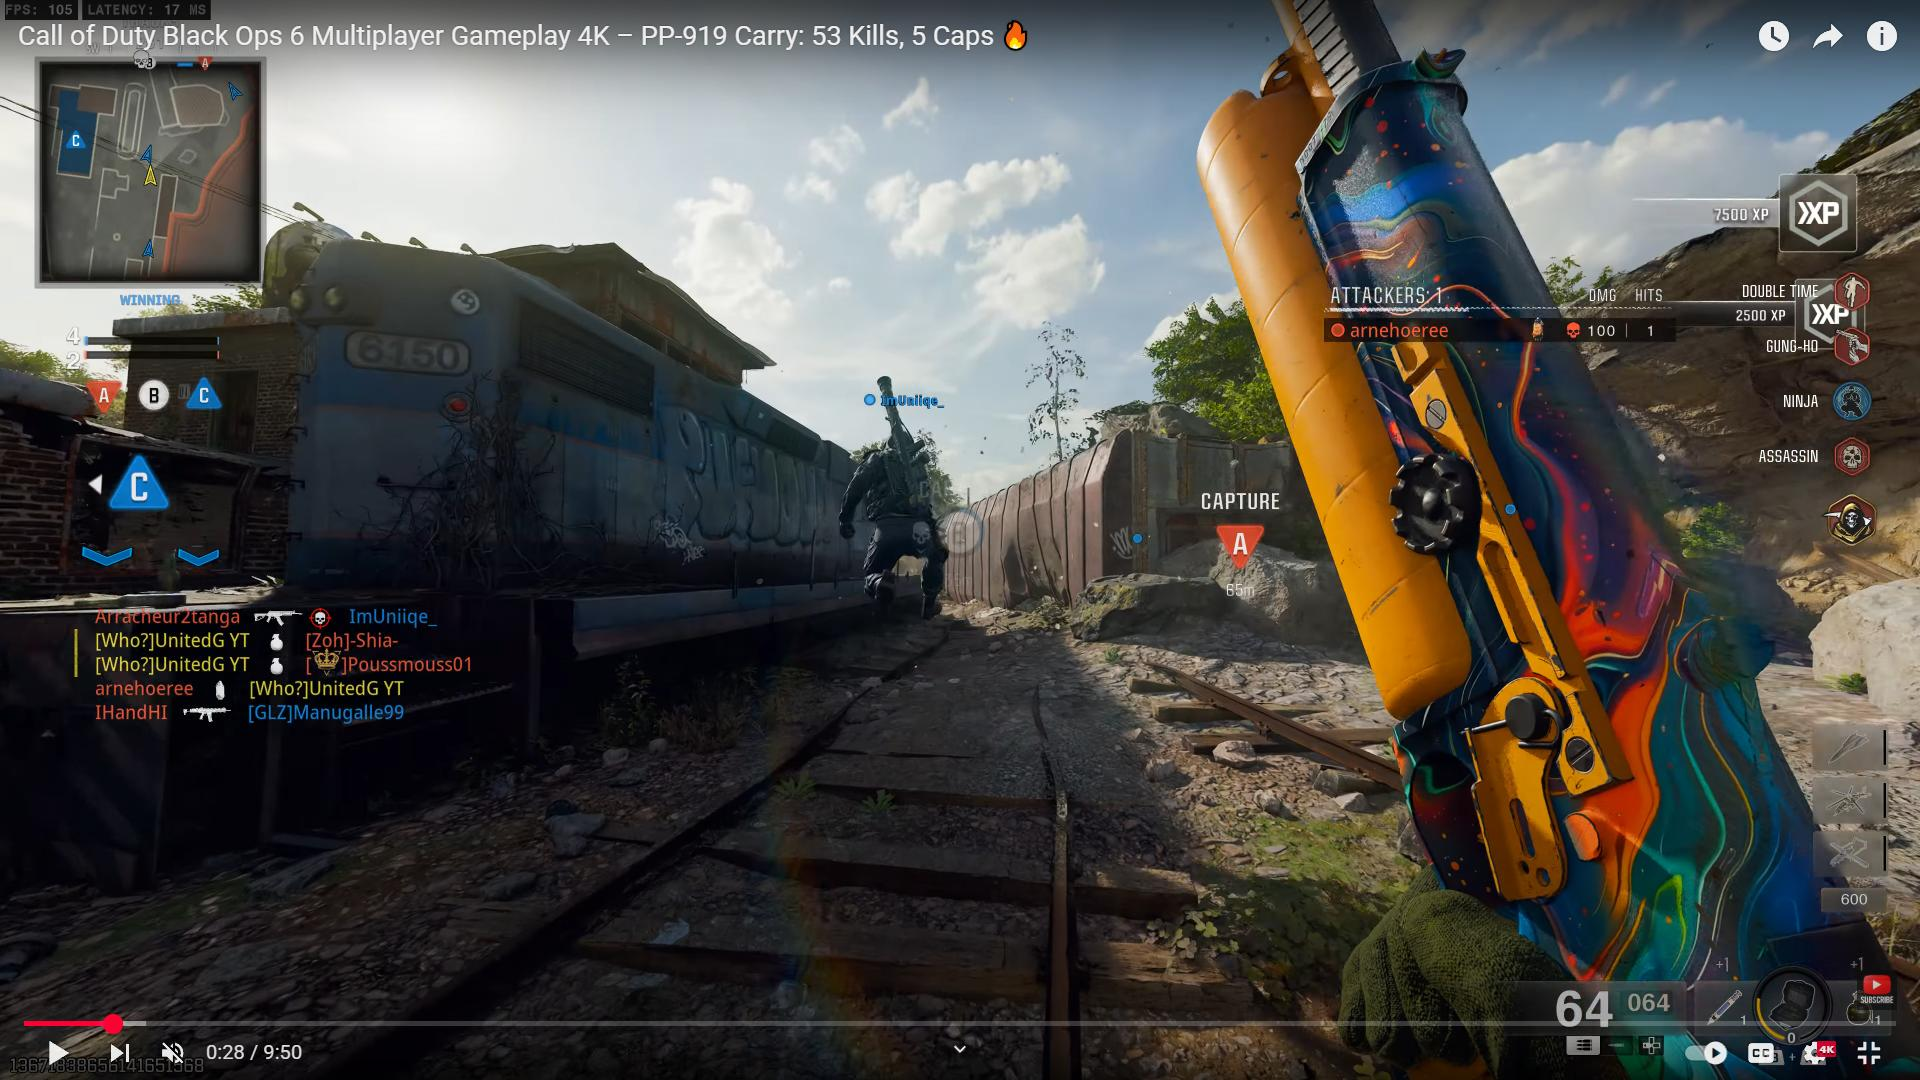Enemy: (855, 427, 952, 615)
